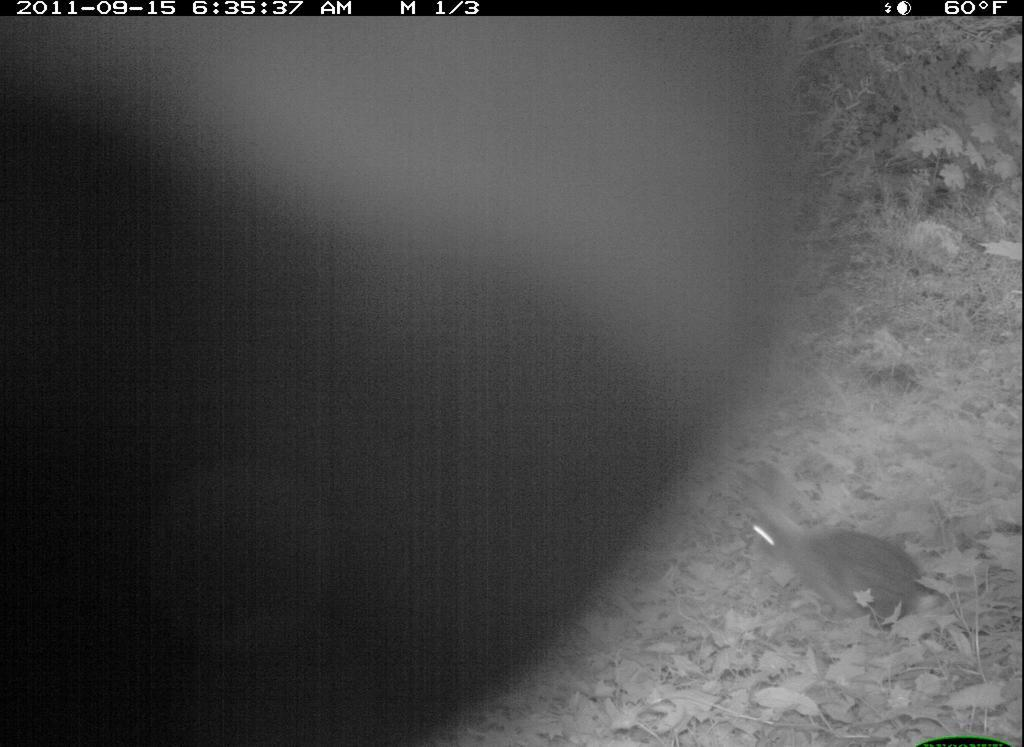rabbit: (739, 463, 944, 633)
